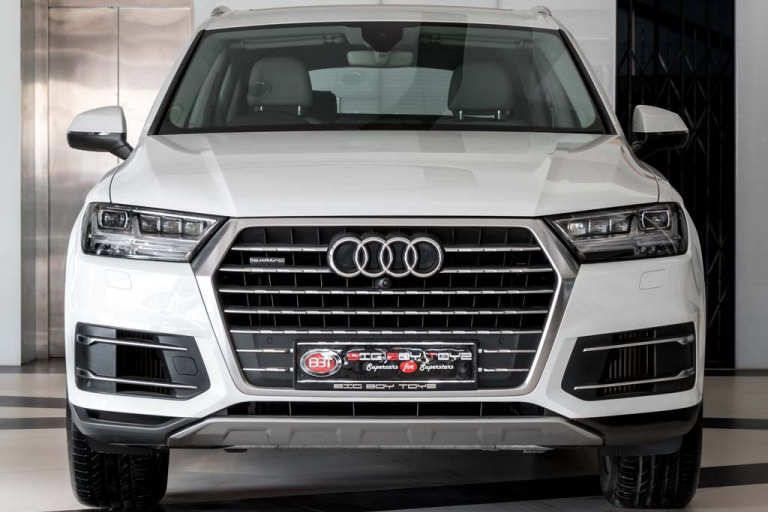audi: (318, 233, 453, 284)
